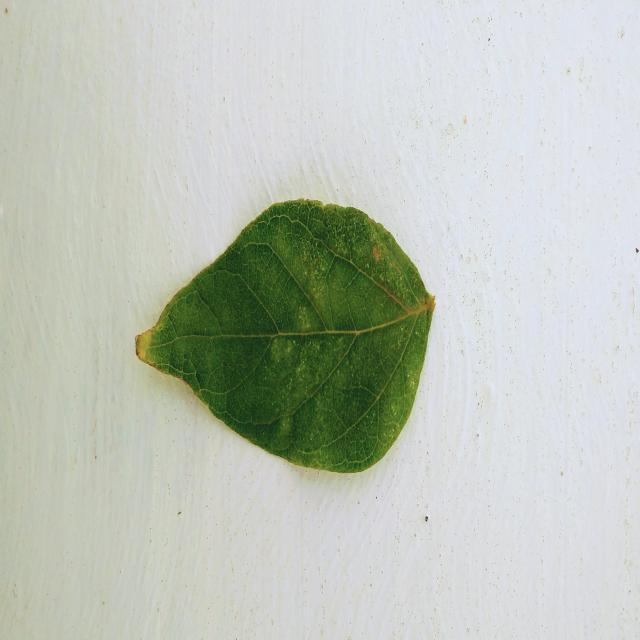leaf: (134, 196, 436, 474)
